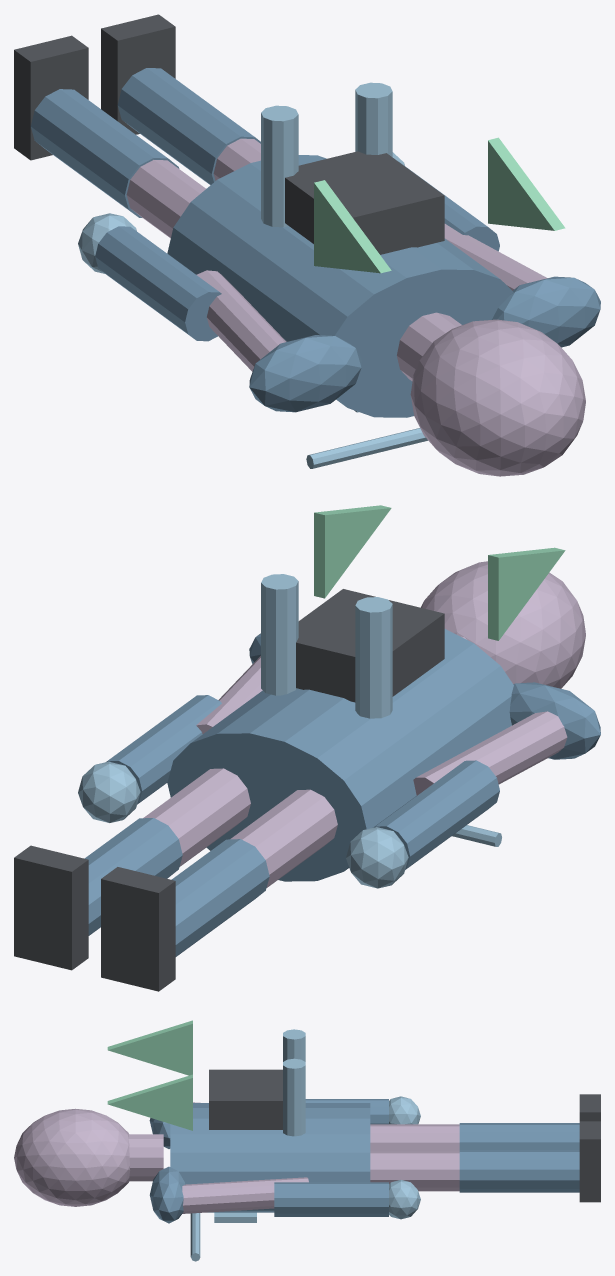
File: SWN-027_luma_vey.glb
3 renders of one model, top to bottom at view 1: azimuth 30°, elevation 25°; view 2: azimuth 150°, elevation 25°; view 3: azimuth 270°, elevation 25°, orthographic. The views are drawn at different scales.
Parts seen in each view (by area): view 1: body_spine, head, back_thruster_pack, greave_-1, greave_1, forearm_gauntlet_-1, shoulder_plate_-1, boot_-1, shoulder_plate_1, boot_1, fae_wing_-1, fae_wing_1 (+10 smaller); view 2: body_spine, head, back_thruster_pack, boot_1, boot_-1, greave_-1, forearm_gauntlet_-1, thigh_-1, thigh_1, upper_arm_-1, greave_1, aether_thruster_-1 (+9 smaller); view 3: body_spine, head, greave_1, back_thruster_pack, forearm_gauntlet_1, greave_-1, thigh_1, upper_arm_1, fae_wing_1, fae_wing_-1, thigh_-1, boot_1 (+11 smaller).
Boxes of the visible parts, x1=… form: body_spine: x1=167, y1=155, x2=513, y2=417; head: x1=410, y1=319, x2=585, y2=476; back_thruster_pack: x1=285, y1=151, x2=444, y2=254; greave_-1: x1=30, y1=89, x2=179, y2=217; greave_1: x1=117, y1=68, x2=260, y2=184; forearm_gauntlet_-1: x1=95, y1=226, x2=221, y2=341; shoulder_plate_-1: x1=249, y1=335, x2=361, y2=412; boot_-1: x1=14, y1=35, x2=88, y2=160; shoulder_plate_1: x1=492, y1=276, x2=600, y2=347; boot_1: x1=101, y1=14, x2=175, y2=134; fae_wing_-1: x1=314, y1=180, x2=391, y2=273; fae_wing_1: x1=488, y1=137, x2=565, y2=230; body_spine: x1=167, y1=629, x2=513, y2=881; head: x1=421, y1=561, x2=585, y2=688; back_thruster_pack: x1=296, y1=589, x2=444, y2=702; boot_1: x1=14, y1=845, x2=88, y2=970; boot_-1: x1=101, y1=867, x2=175, y2=991; greave_-1: x1=171, y1=839, x2=269, y2=956; forearm_gauntlet_-1: x1=374, y1=760, x2=499, y2=869; thigh_-1: x1=230, y1=789, x2=337, y2=887; thigh_1: x1=143, y1=768, x2=250, y2=866; upper_arm_-1: x1=413, y1=711, x2=567, y2=795; greave_1: x1=84, y1=818, x2=182, y2=935; aether_thruster_-1: x1=355, y1=597, x2=392, y2=718; body_spine: x1=170, y1=1103, x2=370, y2=1212; head: x1=14, y1=1108, x2=130, y2=1206; greave_1: x1=459, y1=1150, x2=579, y2=1192; back_thruster_pack: x1=209, y1=1069, x2=282, y2=1129; forearm_gauntlet_1: x1=274, y1=1182, x2=388, y2=1216; greave_-1: x1=459, y1=1123, x2=579, y2=1149; thigh_1: x1=370, y1=1151, x2=459, y2=1191; upper_arm_1: x1=182, y1=1177, x2=308, y2=1213; fae_wing_1: x1=107, y1=1074, x2=192, y2=1130; fae_wing_-1: x1=107, y1=1020, x2=192, y2=1075; thigh_-1: x1=370, y1=1124, x2=459, y2=1151; boot_1: x1=579, y1=1121, x2=600, y2=1202.
Size of the model in its own units: 0.9708 by 0.758 by 2.2.
